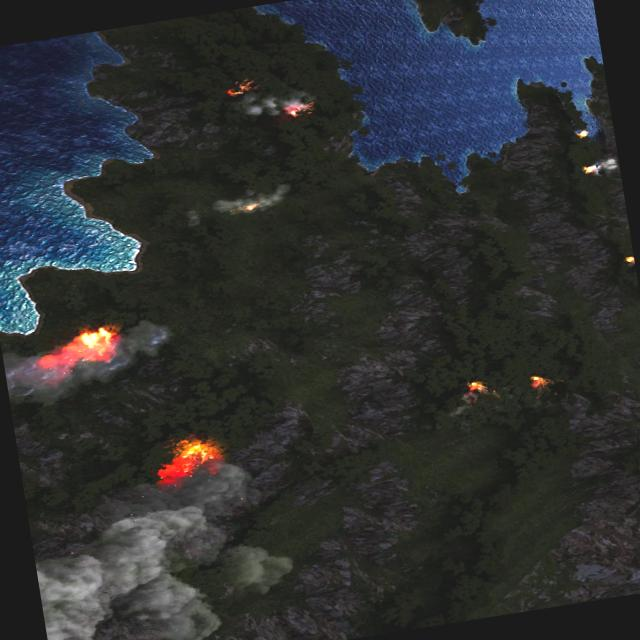fire: (38, 325, 120, 378), (152, 436, 224, 486), (226, 79, 256, 96), (283, 102, 310, 119), (465, 381, 487, 396), (528, 375, 549, 390), (242, 202, 260, 211), (581, 166, 595, 176), (624, 256, 635, 266), (574, 130, 586, 139)
smoke: (27, 460, 308, 640), (0, 314, 180, 416), (208, 184, 296, 222), (238, 84, 314, 120), (590, 156, 620, 176)
